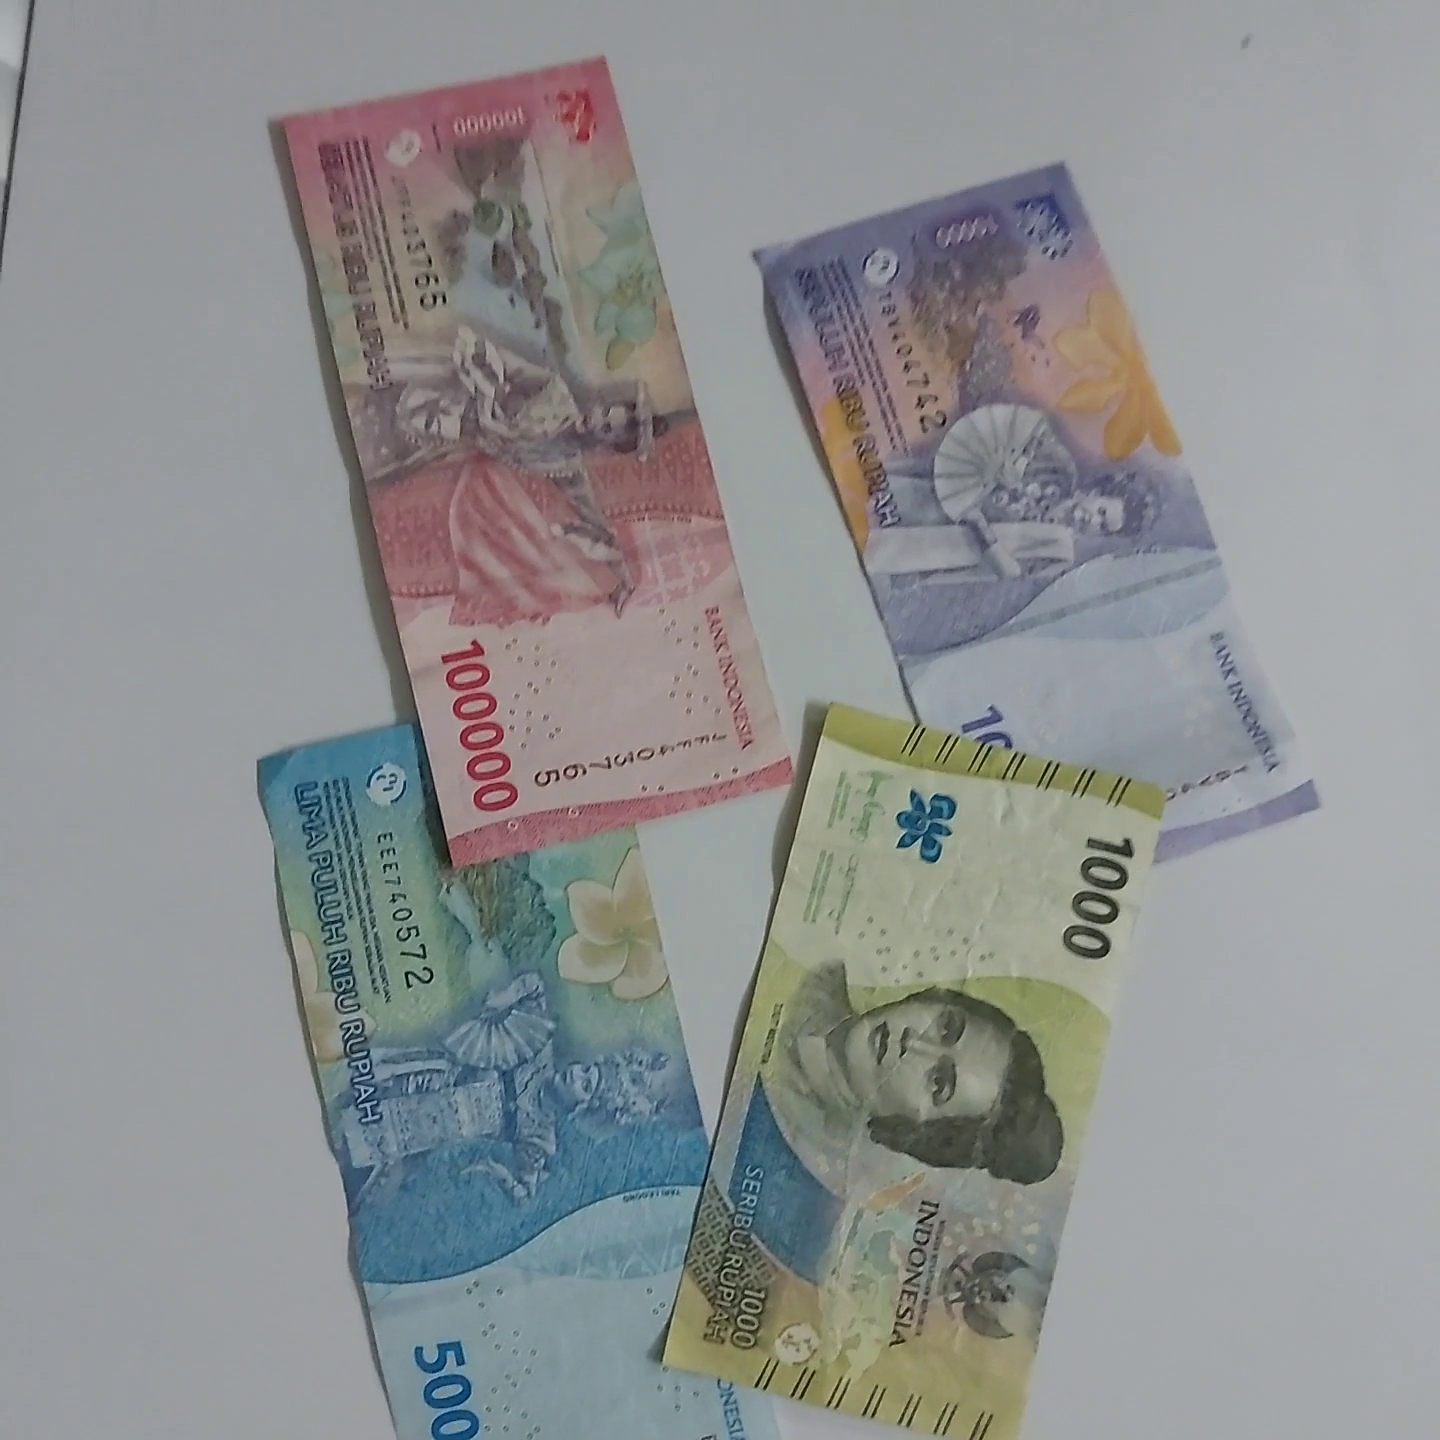100k: (266, 15, 793, 851)
10k: (728, 165, 1335, 907)
1k: (673, 703, 1240, 1440)
50k: (233, 638, 775, 1440)
